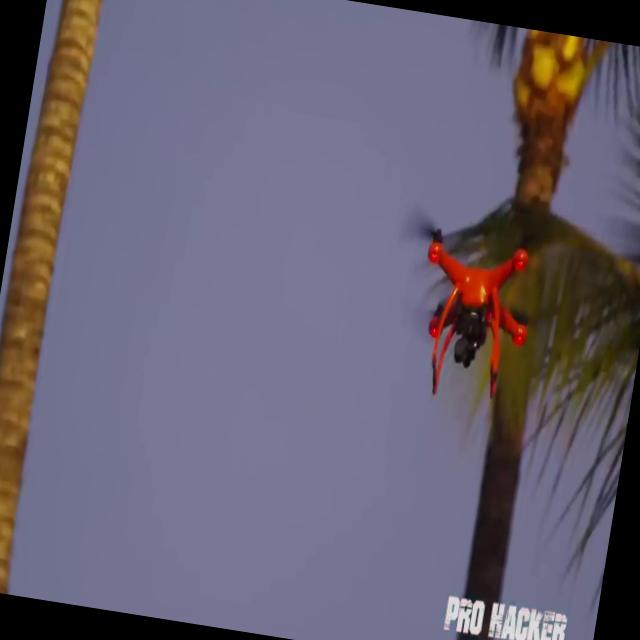drone: (399, 219, 547, 416)
